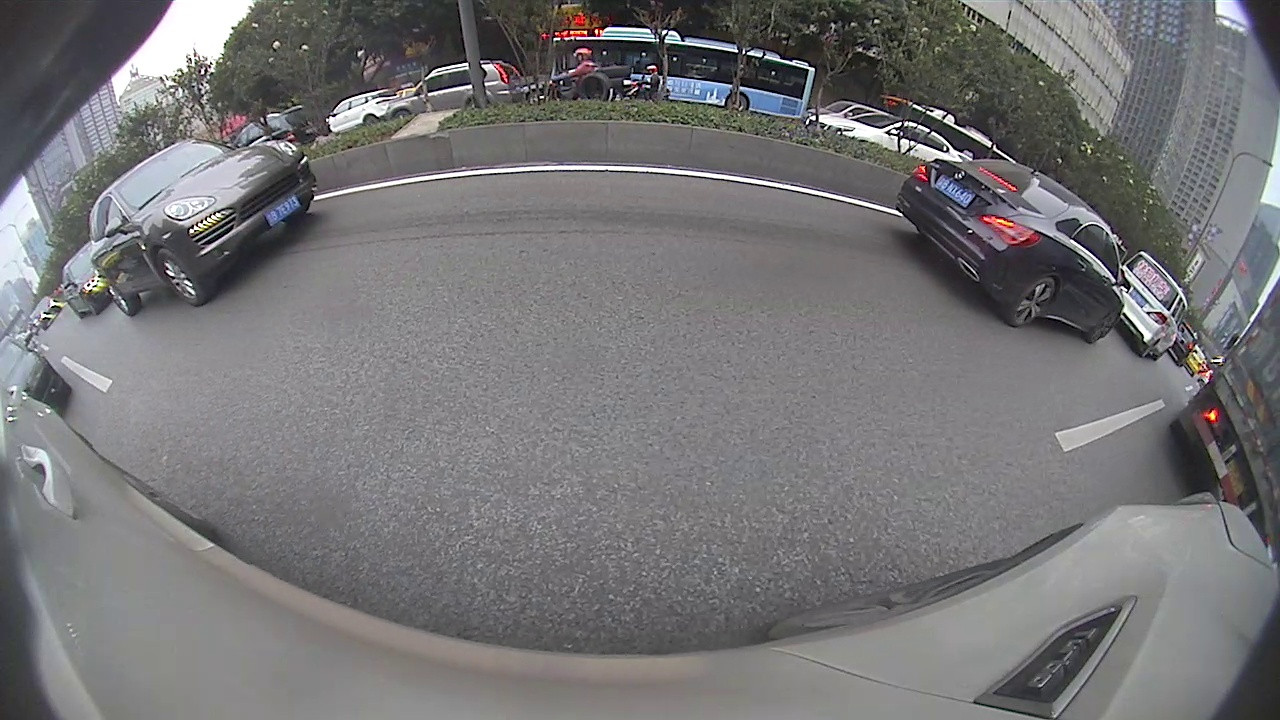car: (1, 343, 135, 494), (345, 158, 513, 252), (508, 153, 570, 202), (589, 145, 645, 198), (667, 151, 728, 196)
front: (28, 419, 99, 498), (500, 190, 516, 216)
person: (1152, 201, 1175, 305)
rear: (439, 203, 462, 239)
